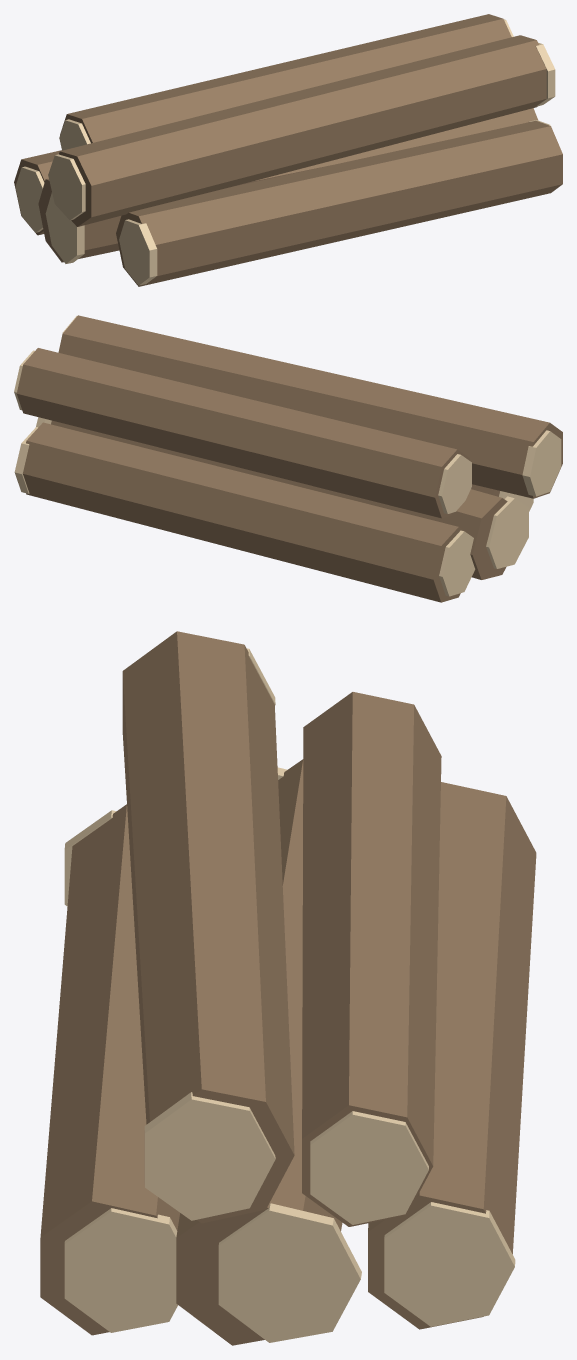
The model's file is load_logs.glb.
The picture shows the model from 3 angles, top to bottom: view 1: azimuth 30°, elevation 25°; view 2: azimuth 150°, elevation 25°; view 3: azimuth 270°, elevation 25°; orthographic projection. The views are drawn at different scales.
Parts seen in each view (by area): view 1: Goods.Log#5, Goods.Log#3, Goods.Log#4, Goods.Log#2, Goods.Log.End#5, Goods.Log.End#9, Goods.Log.End#3, Goods.Log.End, Goods.Log, Goods.Log.End#7, Goods.Log.End#10; view 2: Goods.Log, Goods.Log#4, Goods.Log#5, Goods.Log#2, Goods.Log.End#3, Goods.Log.End#9, Goods.Log.End, Goods.Log.End#7, Goods.Log.End#2; view 3: Goods.Log#5, Goods.Log#4, Goods.Log, Goods.Log#3, Goods.Log.End#4, Goods.Log#2, Goods.Log.End#10, Goods.Log.End#2, Goods.Log.End#6, Goods.Log.End#8.
Boxes of the visible parts, box(x1,y1,x2,y2) form: Goods.Log#5: box(59, 35, 546, 226); Goods.Log#3: box(116, 120, 562, 286); Goods.Log#4: box(60, 14, 511, 143); Goods.Log#2: box(38, 108, 537, 262); Goods.Log.End#5: box(119, 219, 157, 285); Goods.Log.End#9: box(48, 154, 85, 220); Goods.Log.End#3: box(45, 192, 84, 263); Goods.Log.End: box(15, 166, 44, 232); Goods.Log: box(14, 150, 61, 235); Goods.Log.End#7: box(59, 119, 90, 150); Goods.Log.End#10: box(535, 43, 555, 106); Goods.Log: box(23, 422, 470, 602); Goods.Log#4: box(16, 348, 469, 518); Goods.Log#5: box(58, 315, 562, 498); Goods.Log#2: box(51, 420, 507, 579); Goods.Log.End#3: box(486, 496, 528, 568); Goods.Log.End#9: box(522, 430, 561, 496); Goods.Log.End: box(439, 530, 475, 596); Goods.Log.End#7: box(438, 454, 471, 513); Goods.Log.End#2: box(14, 427, 37, 493); Goods.Log#5: box(122, 631, 294, 1223); Goods.Log#4: box(302, 692, 441, 1226); Goods.Log: box(368, 782, 536, 1329); Goods.Log#3: box(40, 804, 179, 1335); Goods.Log.End#4: box(218, 1203, 361, 1342); Goods.Log#2: box(176, 759, 342, 1345); Goods.Log.End#10: box(144, 1092, 275, 1220); Goods.Log.End#2: box(384, 1202, 515, 1326); Goods.Log.End#6: box(64, 1208, 177, 1332); Goods.Log.End#8: box(310, 1111, 428, 1224).
Size of the model in its own units: 0.759 by 0.2022 by 0.3413.
